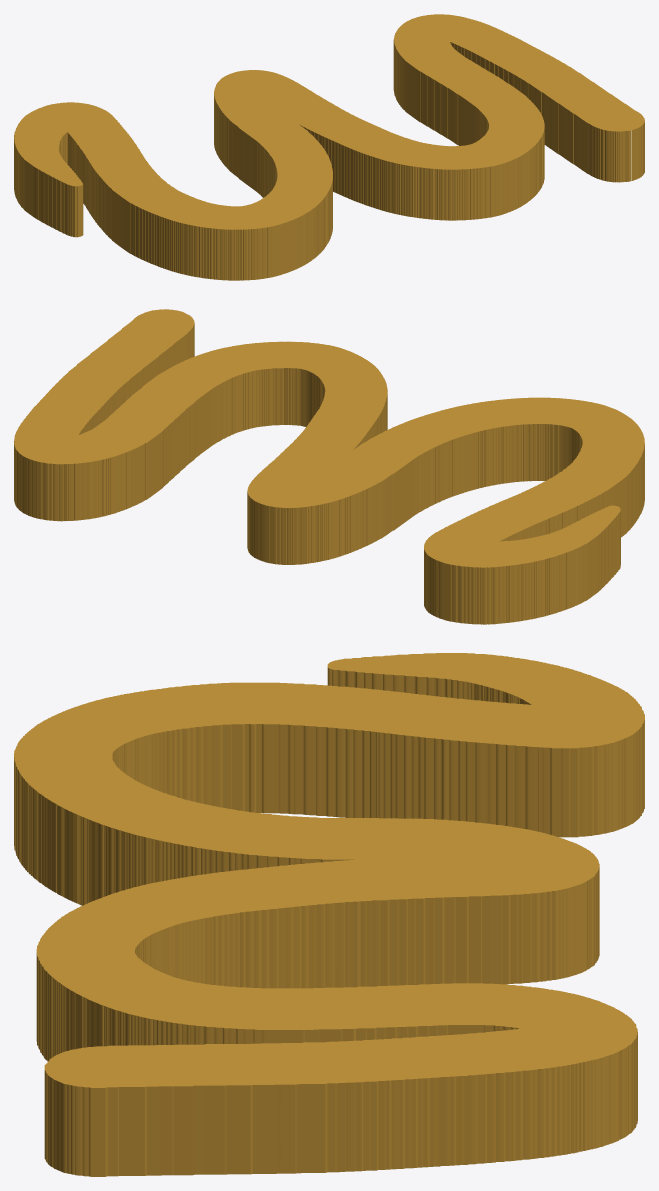
The picture shows the model from 3 angles, top to bottom: view 1: azimuth 30°, elevation 25°; view 2: azimuth 150°, elevation 25°; view 3: azimuth 270°, elevation 25°; orthographic projection. The views are drawn at different scales.
Parts seen in each view (by area): view 1: Curve.016; view 2: Curve.016; view 3: Curve.016.
Boxes of the visible parts, x1,y1,x2,y2 form: Curve.016: (14,14,644,280); Curve.016: (14,309,644,624); Curve.016: (14,653,644,1176).
Size of the model in its own units: 107 by 10.2 by 65.53.
